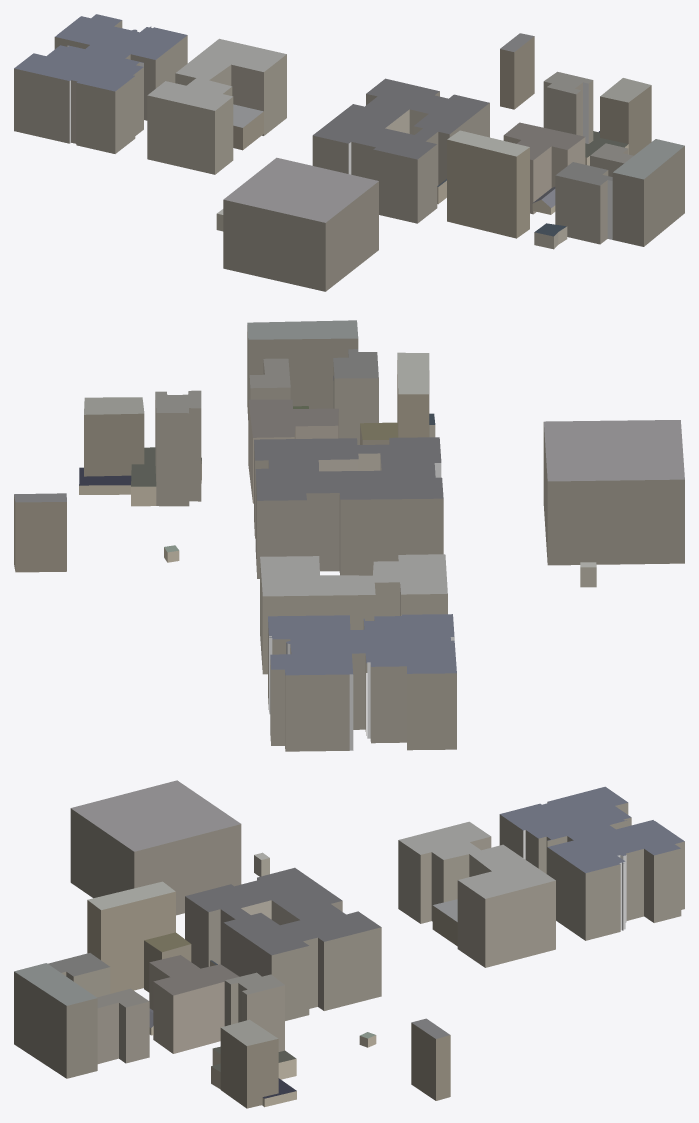
3 views of the same model, one above another, from view 1: azimuth 30°, elevation 25°; view 2: azimuth 150°, elevation 25°; view 3: azimuth 270°, elevation 25° (orthographic). The views are drawn at different scales.
Visible parts, largest first — view 1: tuile; view 2: tuile; view 3: tuile.
Part boxes in pixels (x1=…): tuile: x1=14, y1=14, x2=684, y2=291; tuile: x1=14, y1=320, x2=684, y2=751; tuile: x1=14, y1=780, x2=684, y2=1108.
Bounding box in the file's own units: 252 × 50.47 × 287.
